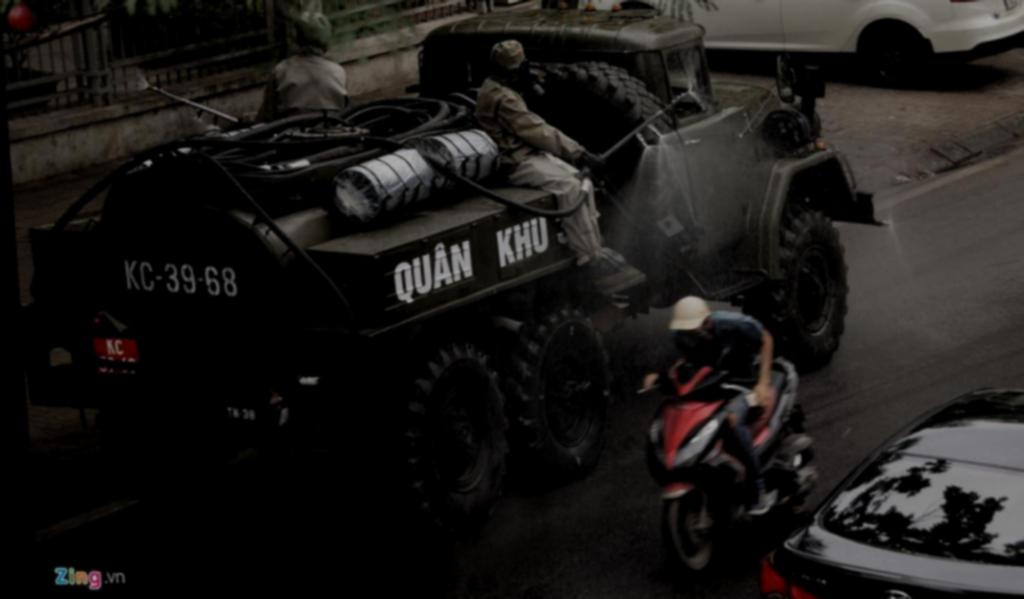License_Plate: (88, 335, 142, 378)
